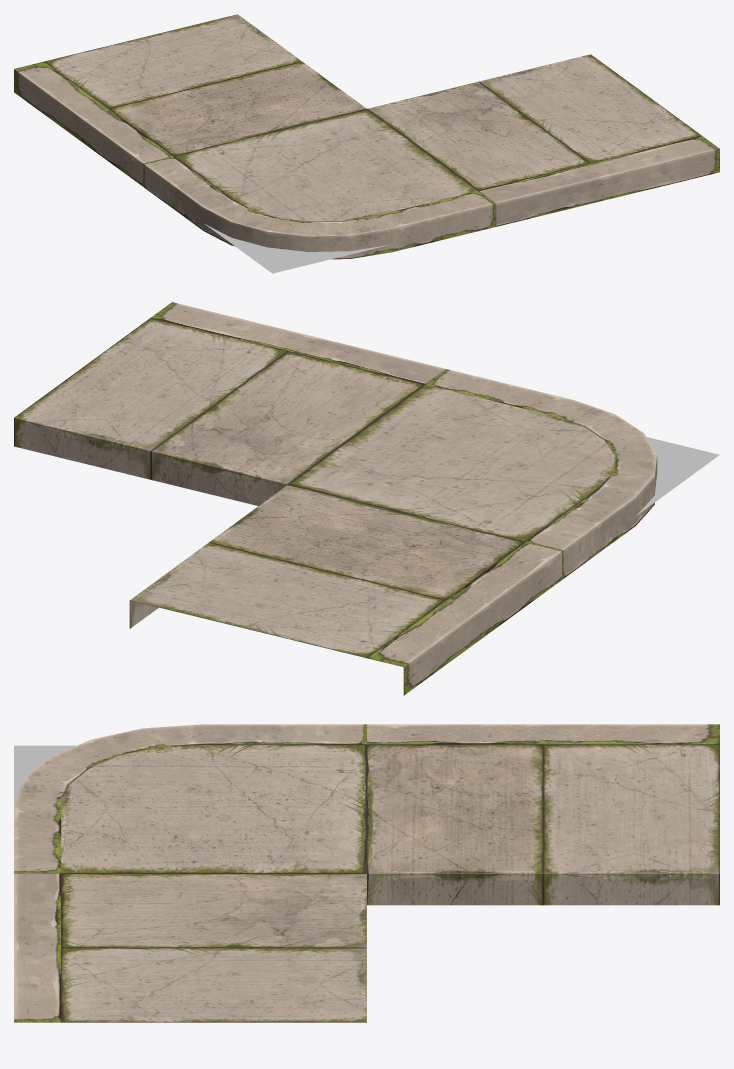
Rendered from sidewalk03_corner_A.fbx.
3 renders of one model, top to bottom at view 1: azimuth 30°, elevation 25°; view 2: azimuth 150°, elevation 25°; view 3: azimuth 270°, elevation 25°, orthographic. The views are drawn at different scales.
Visible parts, largest first — view 1: sidewalk03_corner_A; view 2: sidewalk03_corner_A; view 3: sidewalk03_corner_A.
Boxes of the visible parts, box(x1,y1,x2,y2) form: sidewalk03_corner_A: box(14, 14, 719, 273); sidewalk03_corner_A: box(14, 302, 719, 695); sidewalk03_corner_A: box(14, 724, 719, 1022).
Bounding box in the file's own units: 300 × 15 × 300.
